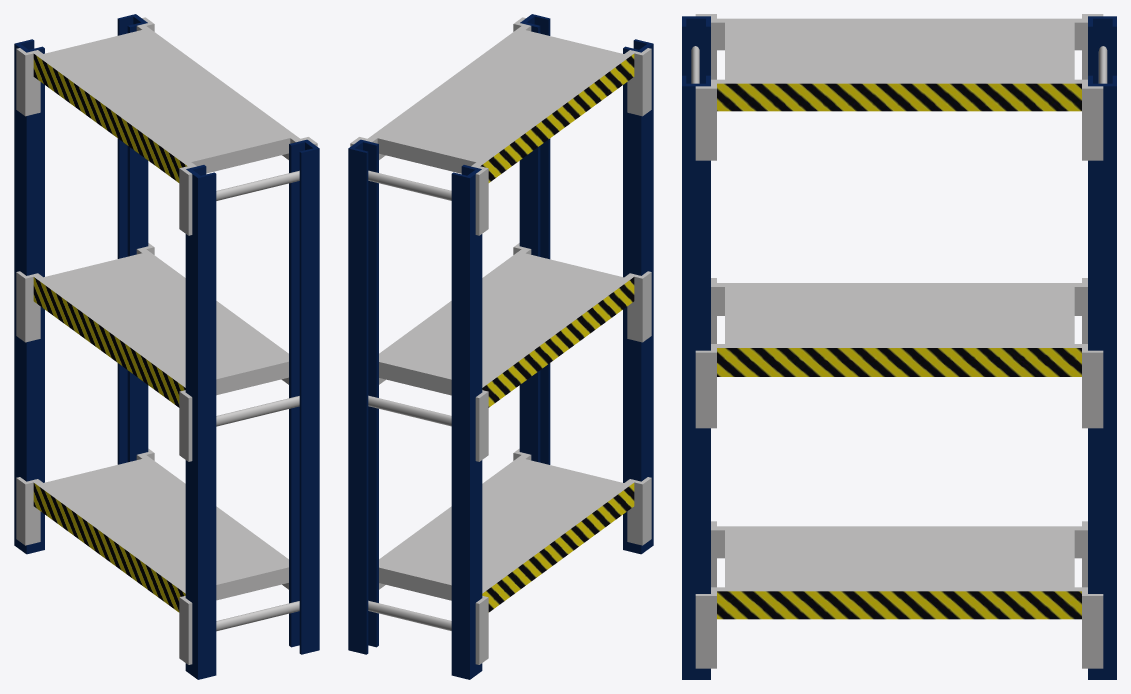
File: F_Shelf_01.fbx
3 renders of one model, left to right at view 1: azimuth 30°, elevation 25°; view 2: azimuth 150°, elevation 25°; view 3: azimuth 270°, elevation 25°, orthographic. The views are drawn at different scales.
Parts seen in each view (by area): view 1: F_Shelf_01; view 2: F_Shelf_01; view 3: F_Shelf_01.
Part boxes in pixels (x1=…): F_Shelf_01: x1=14, y1=14, x2=319, y2=679; F_Shelf_01: x1=348, y1=14, x2=653, y2=679; F_Shelf_01: x1=682, y1=14, x2=1116, y2=679.
Bounding box in the file's own units: 56.78 × 211 × 140.
1 material, 1 textured.
